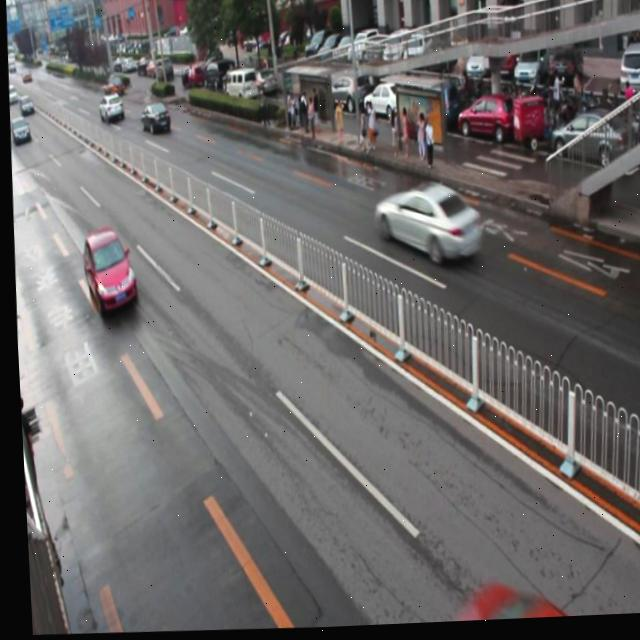car: (370, 187, 479, 272), (80, 229, 135, 315), (138, 103, 170, 134)
